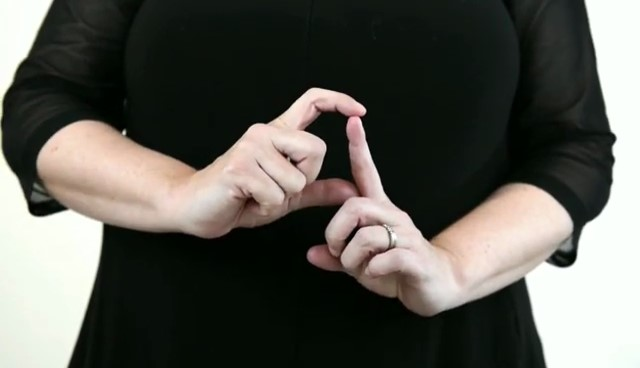D: (180, 79, 451, 323)
